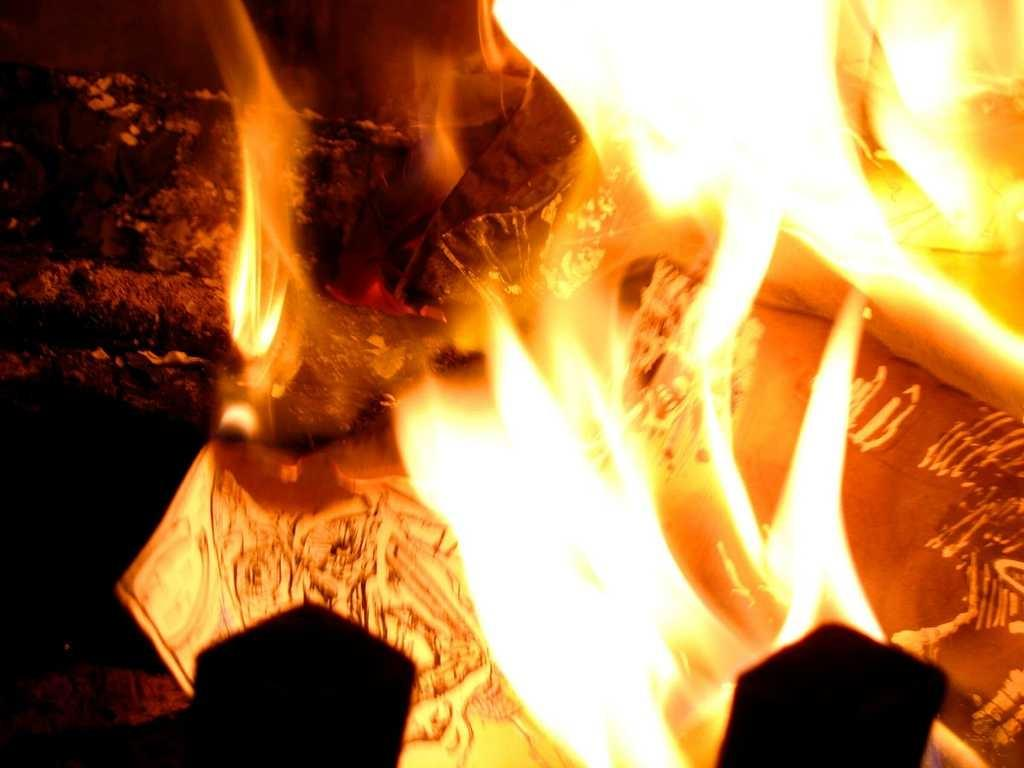fire: (632, 4, 850, 202), (498, 416, 642, 698), (796, 446, 846, 610), (544, 4, 626, 90), (406, 412, 476, 480)
